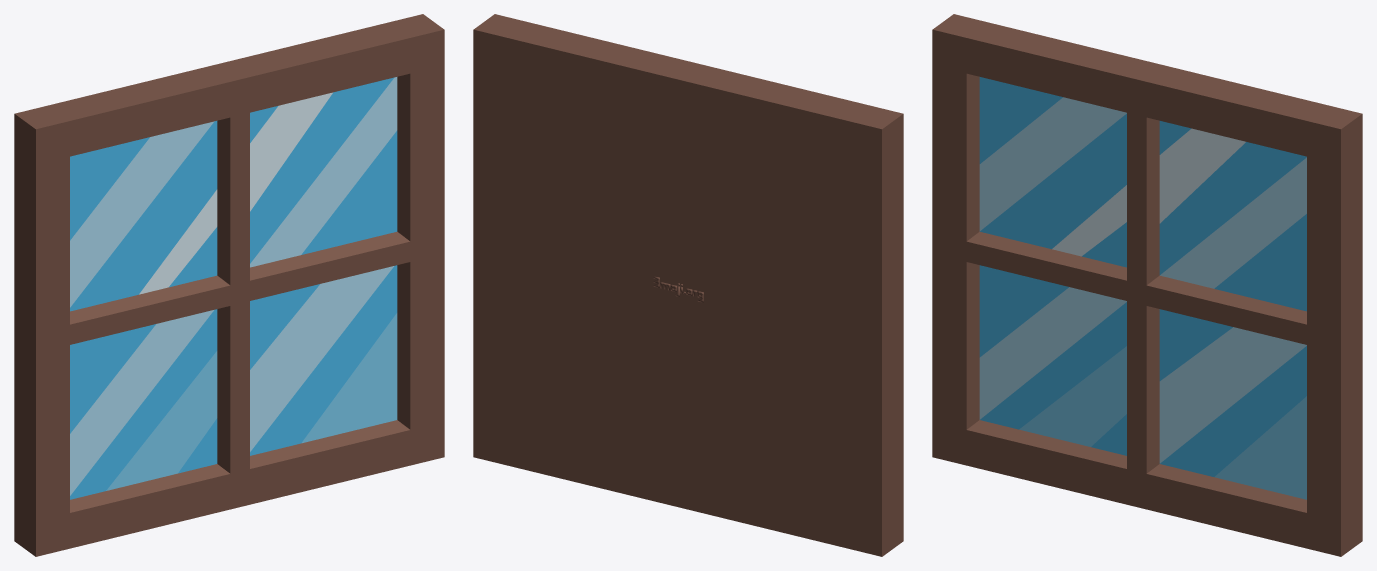
Rendered from window.gltf.
3 renders of one model, left to right at view 1: azimuth 30°, elevation 25°; view 2: azimuth 150°, elevation 25°; view 3: azimuth 330°, elevation 25°, orthographic.
Visible parts, largest first — view 1: Cube.1011; view 2: Cube.1011; view 3: Cube.1011.
Part boxes in pixels (bbox=[...]): Cube.1011: bbox=[14, 14, 444, 556]; Cube.1011: bbox=[473, 14, 903, 556]; Cube.1011: bbox=[932, 14, 1362, 556].
Size of the model in its own units: 2.16 by 2.16 by 0.2006.
Materials: 1 (1 with a texture image).
